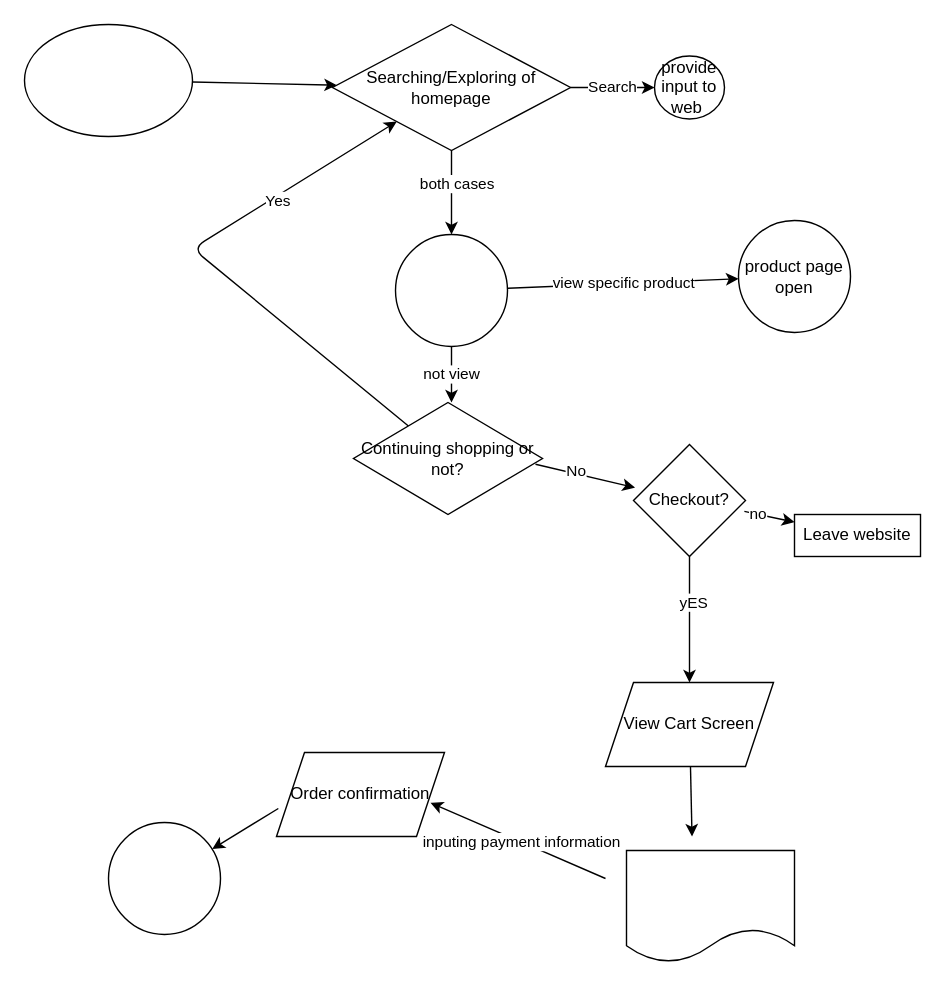
Image size: 945x987. Some labels were removed from this diagram. Here are the shapes that lost their labels. From the top down, the box of each, then its label:
(23, 23, 192, 136): User Enters
(394, 233, 507, 346): Looking over their product
(107, 821, 220, 934): End
(625, 849, 794, 962): View payment screen
